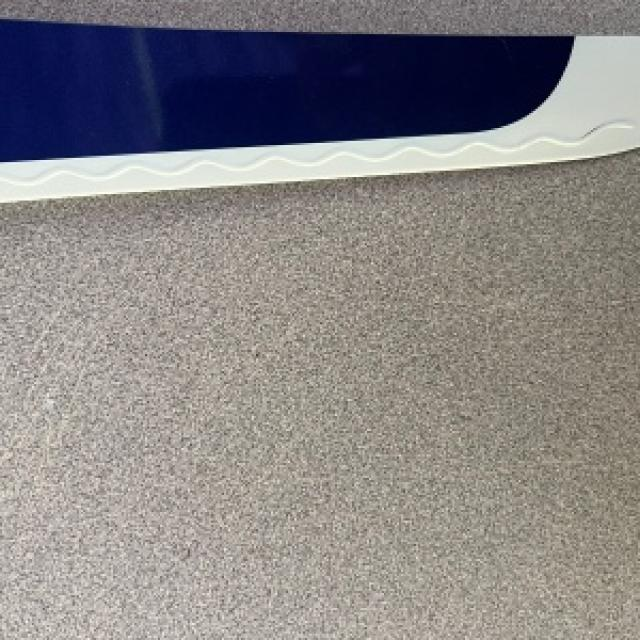healthy: (0, 17, 638, 198)
